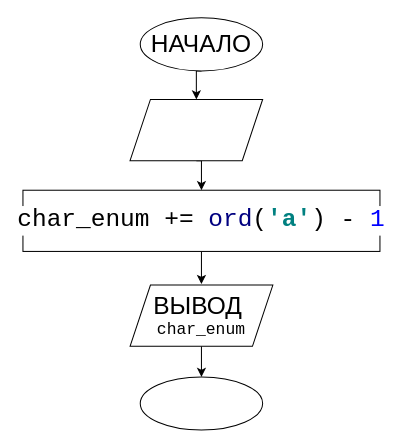
The diagram is 402 pixels wide and 448 high, and some of its shapes have lost their labels. Here are the shapes that lost their labels. From the top down, the centre of each, then its label:
At (196,129): "ВВОД char_enum".
At (201,403): "КОНЕЦ".
